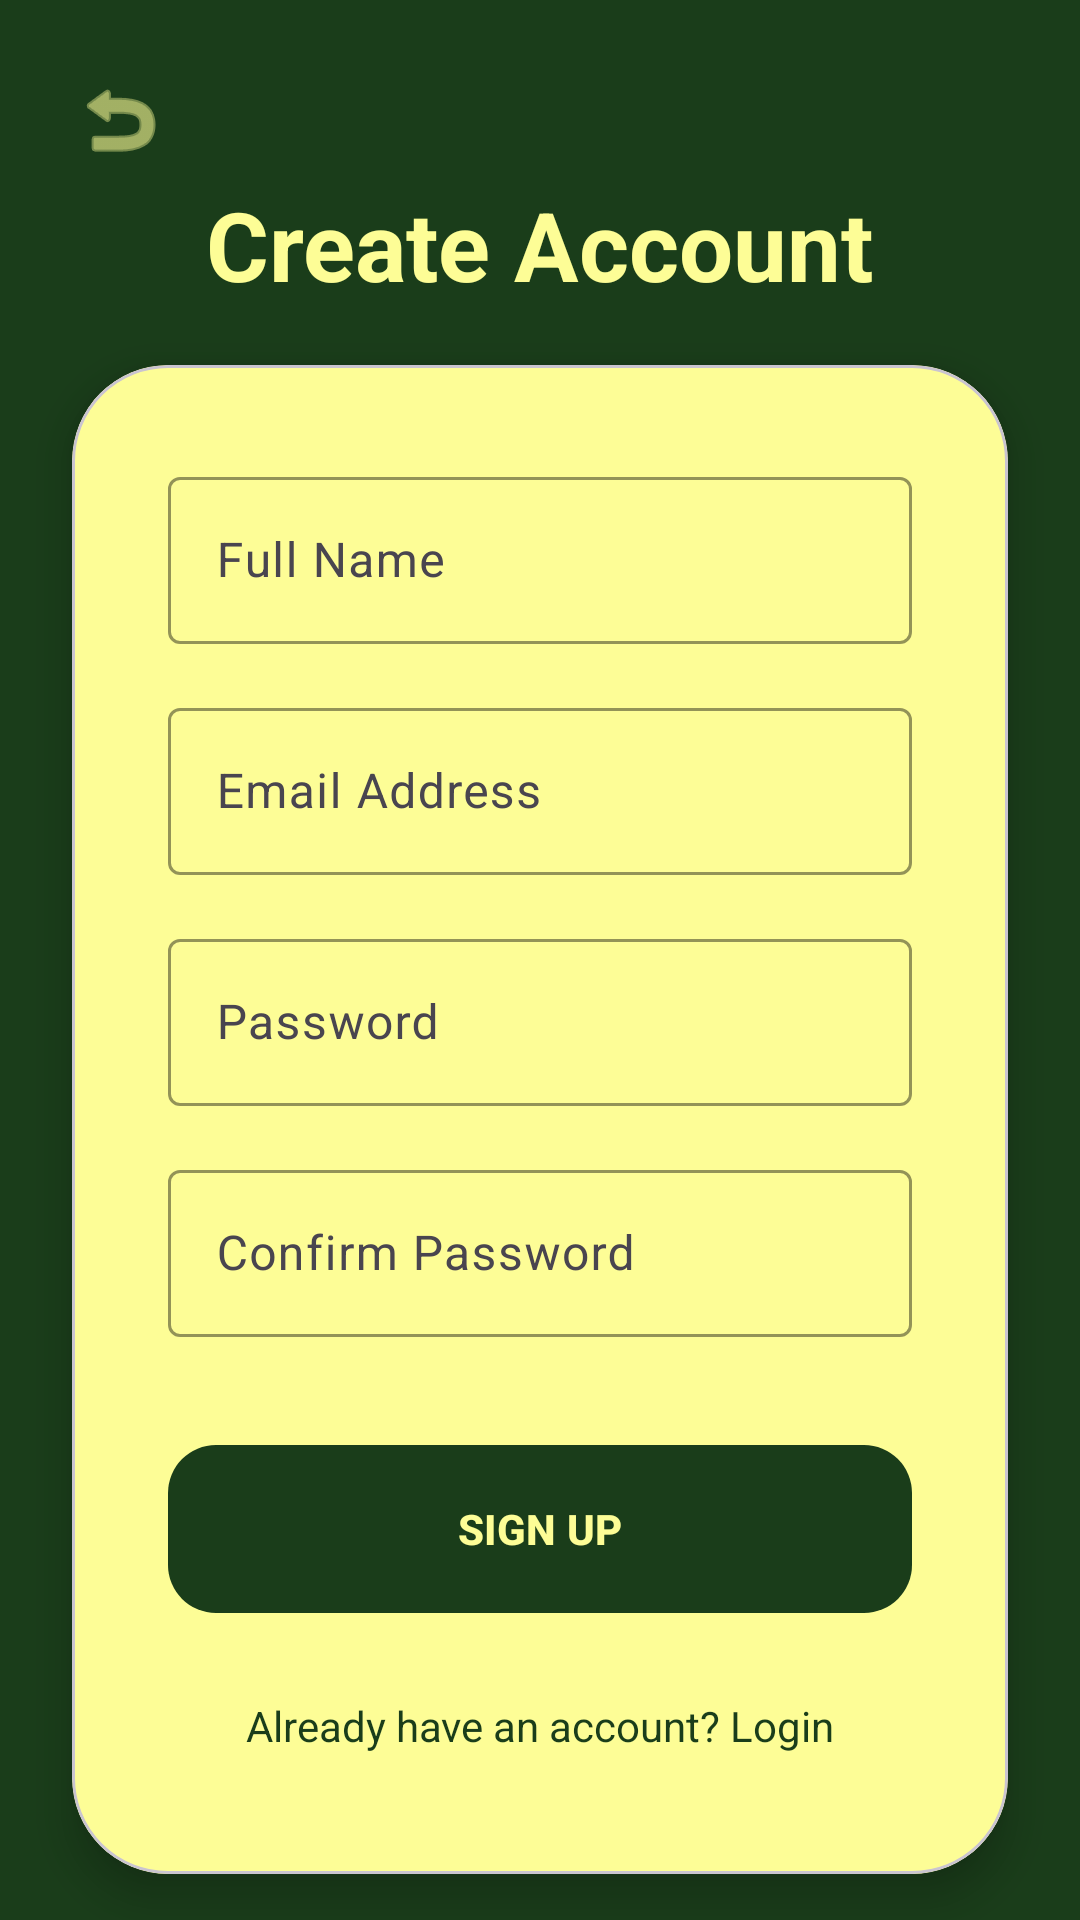

Icon bounding boxes for this 1080px x 1920px phone screenshot, format (x1, y1, x2, y2):
revert: (87, 89, 156, 152)
